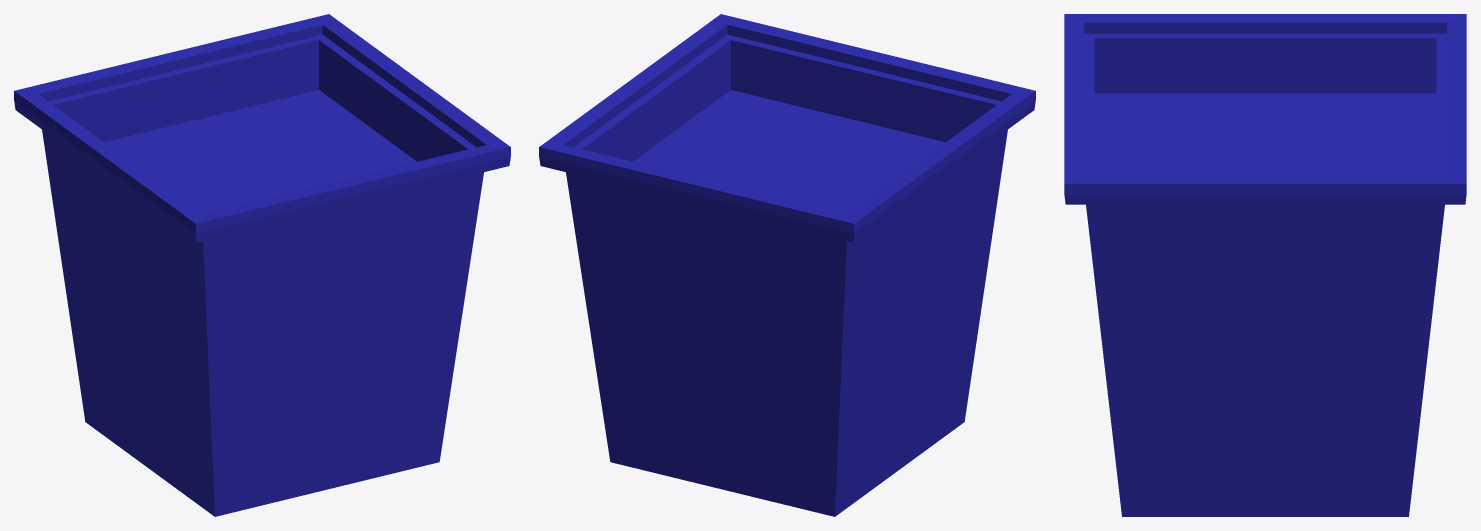
The model's file is recycling-bin.fbx.
3 renders of one model, left to right at view 1: azimuth 30°, elevation 25°; view 2: azimuth 150°, elevation 25°; view 3: azimuth 270°, elevation 25°, orthographic. The views are drawn at different scales.
Visible parts, largest first — view 1: Cube; view 2: Cube; view 3: Cube.
Part boxes in pixels (left/top/right/bottom): Cube: left=14, top=14, right=510, bottom=516; Cube: left=539, top=14, right=1035, bottom=516; Cube: left=1064, top=14, right=1466, bottom=516.
Size of the model in its own units: 280 by 275 by 280.
